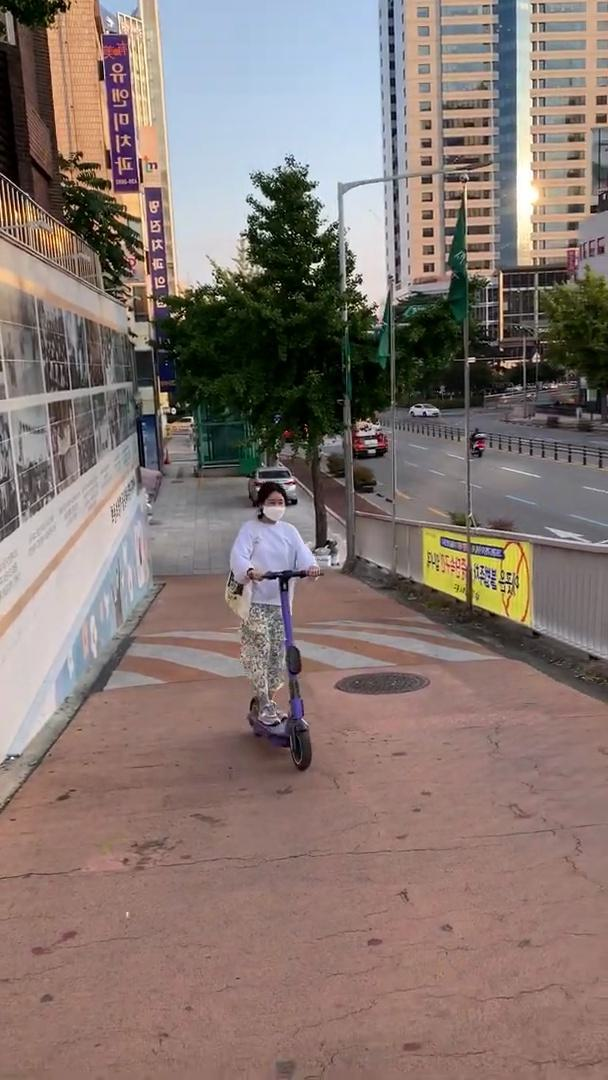nonhelmet: (219, 479, 326, 775)
